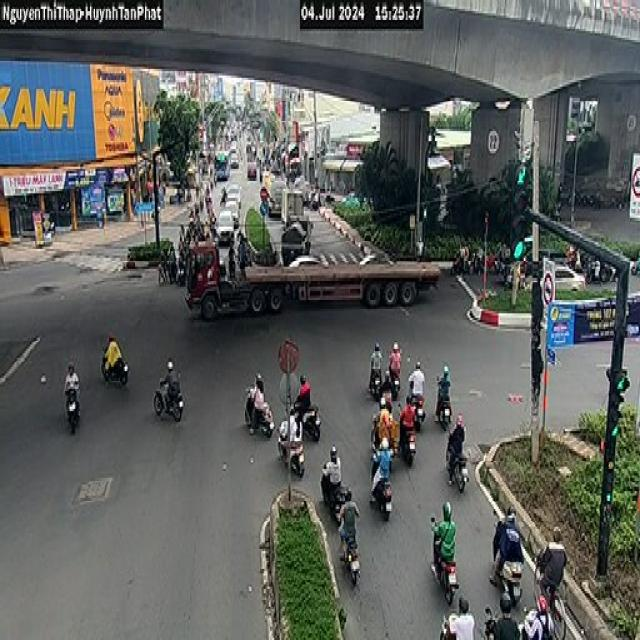Green: (510, 160, 534, 263), (608, 371, 628, 454), (605, 468, 614, 507)
